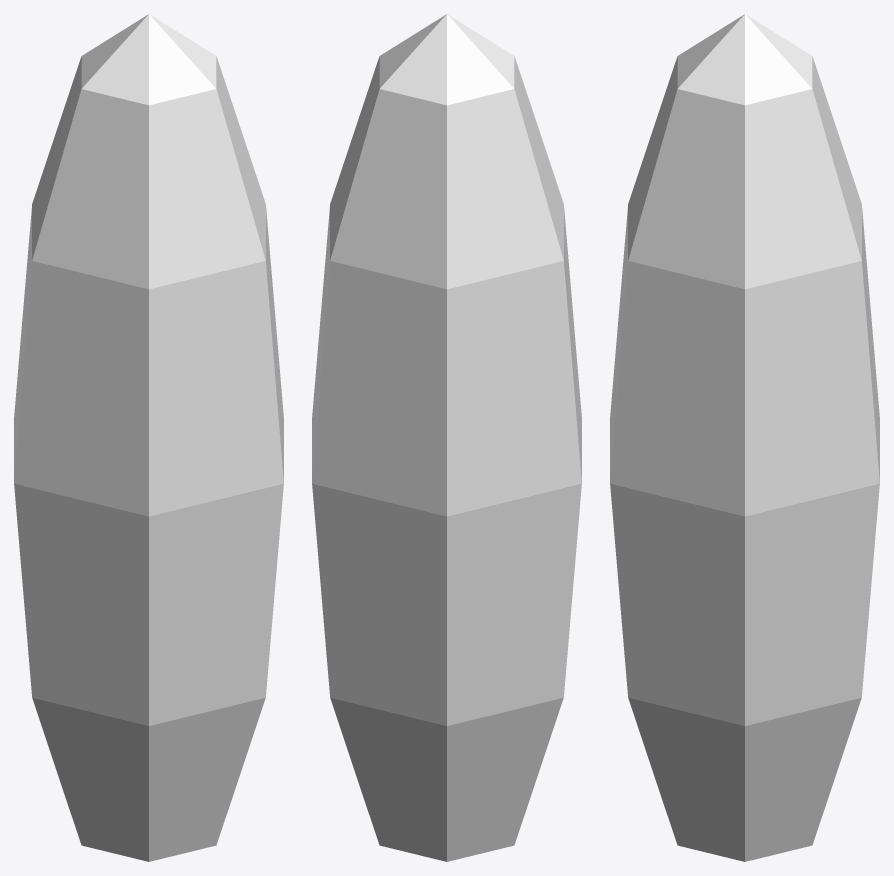
The model's file is Tree06.fbx.
3 renders of one model, left to right at view 1: azimuth 30°, elevation 25°; view 2: azimuth 150°, elevation 25°; view 3: azimuth 270°, elevation 25°, orthographic.
Visible parts, largest first — view 1: Tree6; view 2: Tree6; view 3: Tree6.
Boxes of the visible parts, x1,y1,x2,y2 form: Tree6: [14, 14, 283, 861]; Tree6: [312, 14, 581, 861]; Tree6: [610, 14, 879, 861].
Bounding box in the file's own units: 0.7225 × 2.09 × 0.6257.
